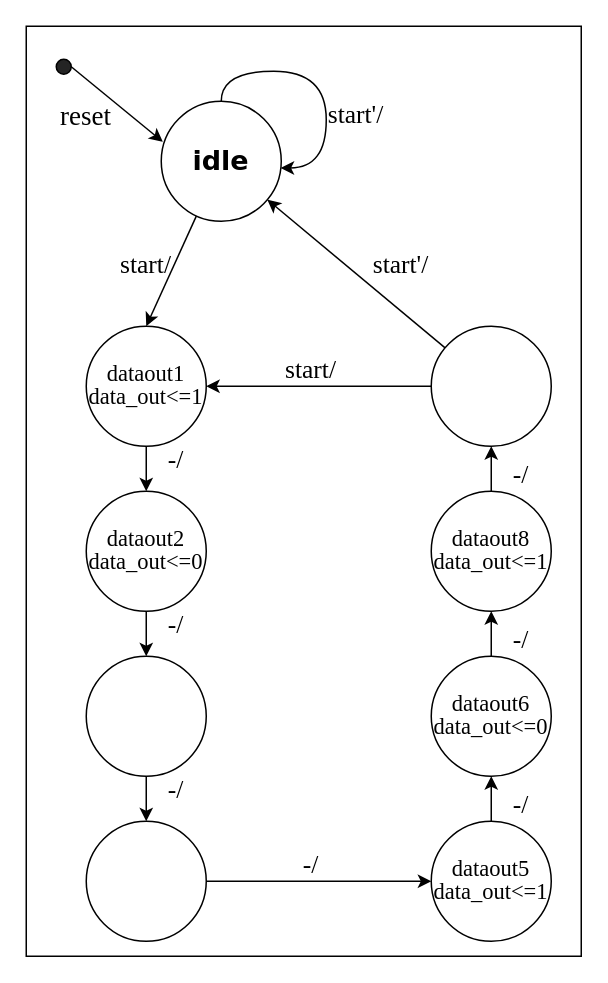
This 608x983 diagram has some shape labels left out. The shapes that lost their labels are listed below. From the top down, each one's box as (x1, y1, x2, y2) in pixels, then its label:
(430, 325, 551, 446): dataout8 data_out<=0
(85, 655, 206, 776): dataout3 data_out<=1
(85, 820, 206, 941): dataout4 data_out<=0
